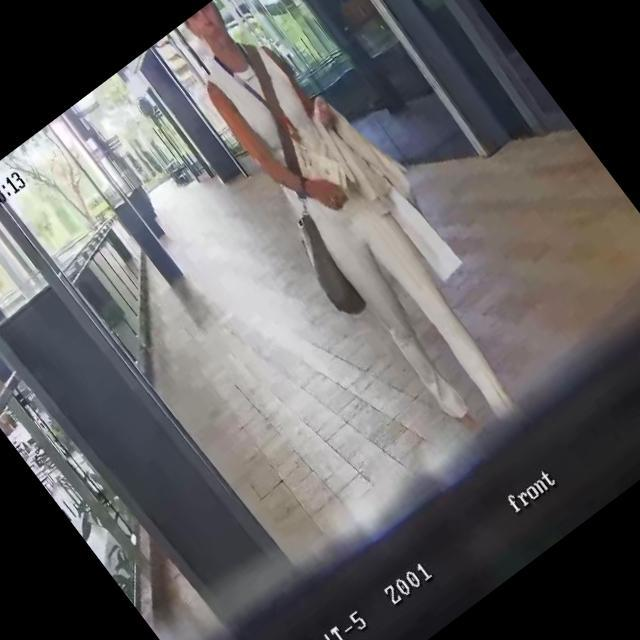person: (160, 0, 554, 451)
